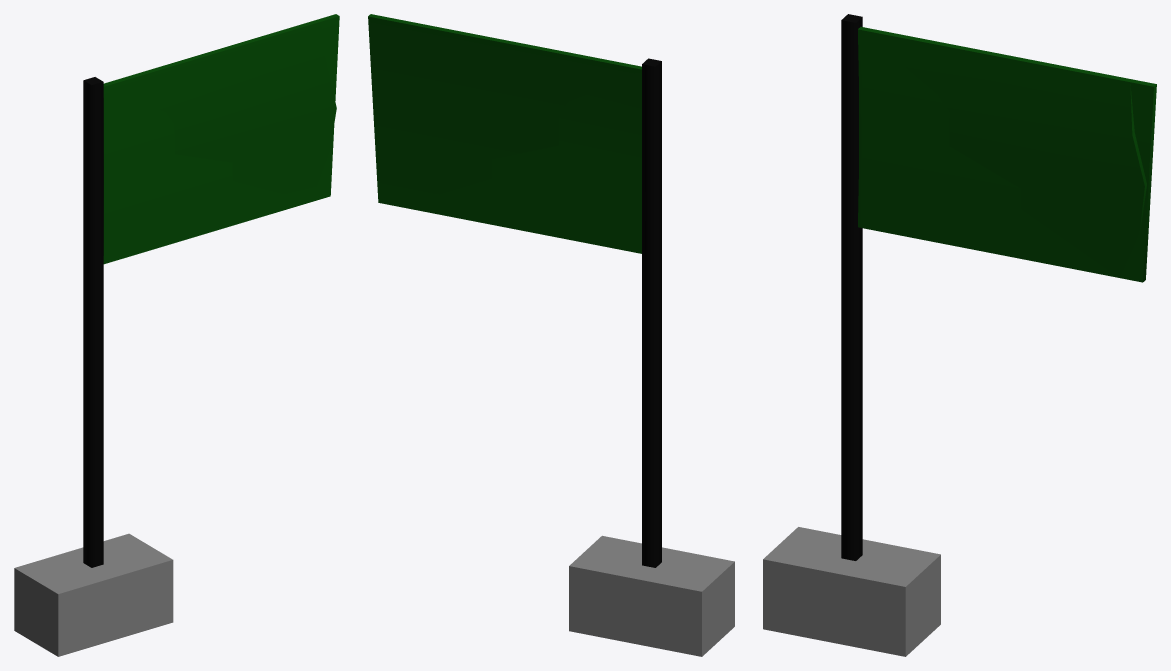
The model's file is flag04.fbx.
3 renders of one model, left to right at view 1: azimuth 30°, elevation 25°; view 2: azimuth 150°, elevation 25°; view 3: azimuth 330°, elevation 25°, orthographic. The views are drawn at different scales.
Parts seen in each view (by area): view 1: flag_mid2, flag_low1; view 2: flag_mid2, flag_low1; view 3: flag_mid2, flag_low1.
Boxes of the visible parts, <box> form: flag_mid2: <box>14,20,336,656</box>; flag_low1: <box>14,14,339,656</box>; flag_mid2: <box>390,18,734,656</box>; flag_low1: <box>368,14,734,656</box>; flag_mid2: <box>763,14,1146,656</box>; flag_low1: <box>763,28,1156,656</box>.
Bounding box in the file's own units: 426 × 689 × 102.
